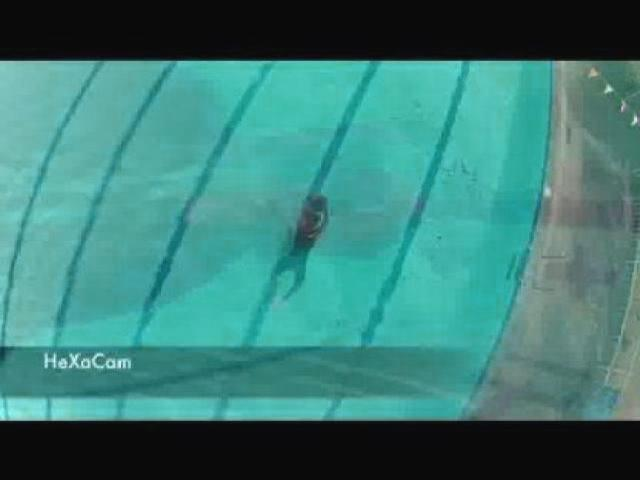swimming: (263, 194, 348, 314)
